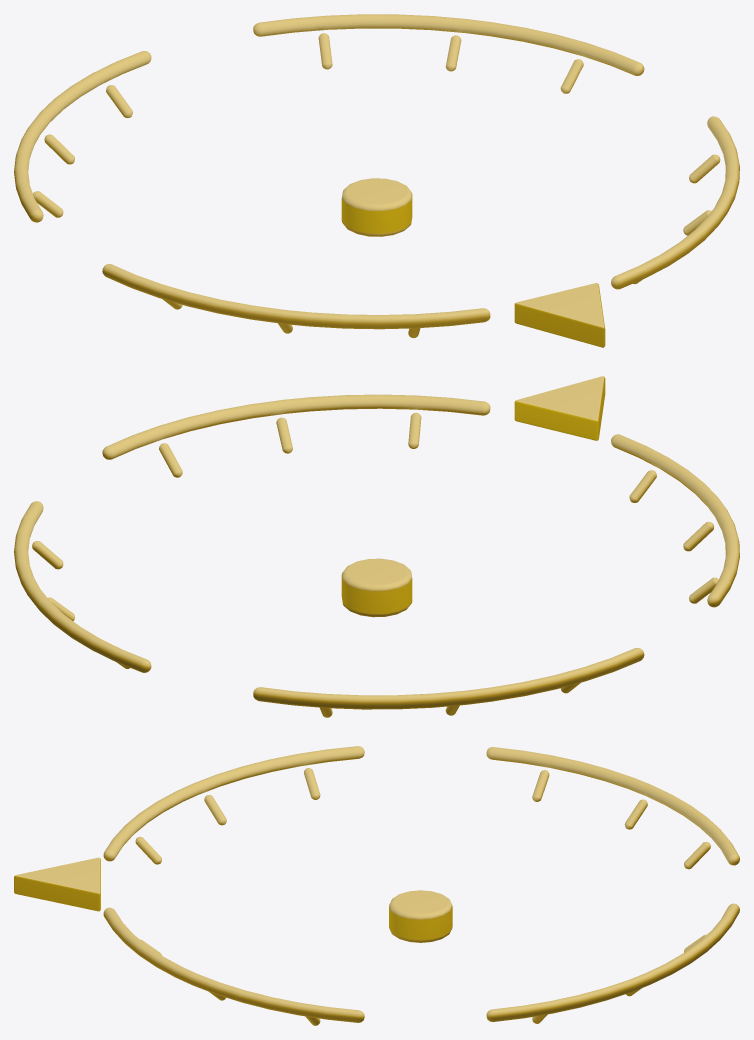
File: geospatial_marker_yellow.glb
The picture shows the model from 3 angles, top to bottom: view 1: azimuth 30°, elevation 25°; view 2: azimuth 150°, elevation 25°; view 3: azimuth 270°, elevation 25°; orthographic projection. The views are drawn at different scales.
Visible parts, largest first — view 1: geospatial_marker; view 2: geospatial_marker; view 3: geospatial_marker.
Part boxes in pixels (<box>): geospatial_marker: <box>14,14,739,347</box>; geospatial_marker: <box>14,376,739,717</box>; geospatial_marker: <box>14,746,739,1025</box>.
Size of the model in its own units: 2 by 0.1941 by 2.28.
1 material, 1 textured.
